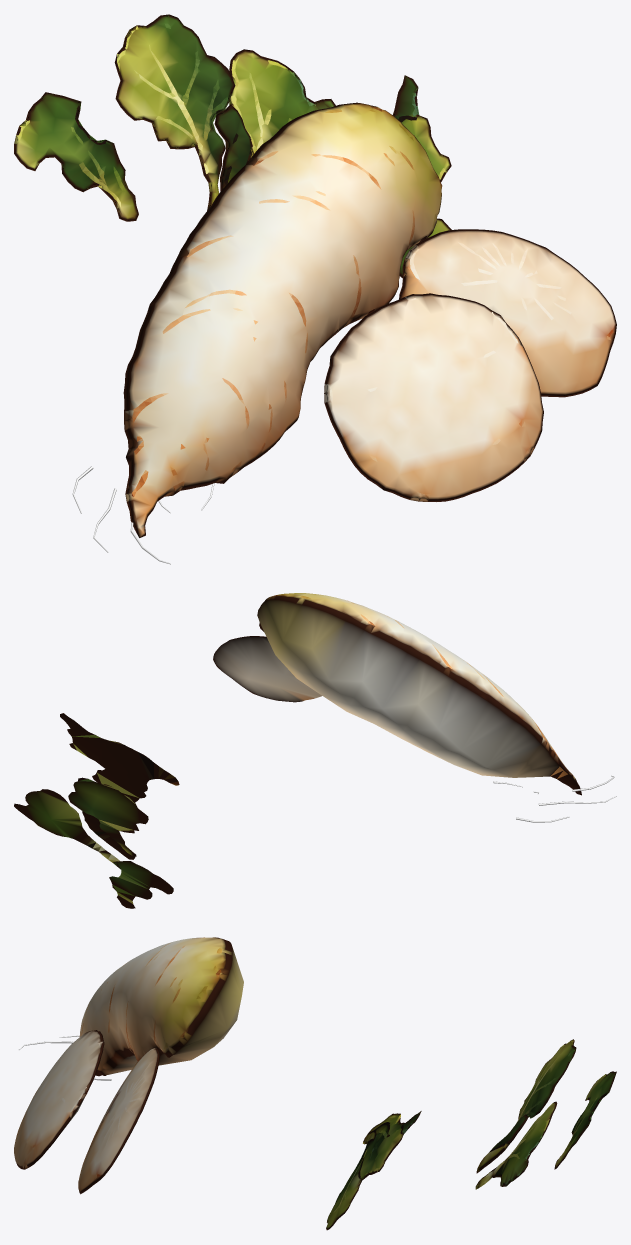
Rendered from SM_radish.fbx.
3 renders of one model, top to bottom at view 1: azimuth 30°, elevation 25°; view 2: azimuth 150°, elevation 25°; view 3: azimuth 270°, elevation 25°, orthographic. The views are drawn at different scales.
Parts seen in each view (by area): view 1: SM_radish; view 2: SM_radish; view 3: SM_radish.
Part boxes in pixels (<box>): SM_radish: <box>14,14,616,564</box>; SM_radish: <box>14,593,616,908</box>; SM_radish: <box>14,937,616,1230</box>.
Size of the model in its own units: 0.2639 by 0.1273 by 0.333.
